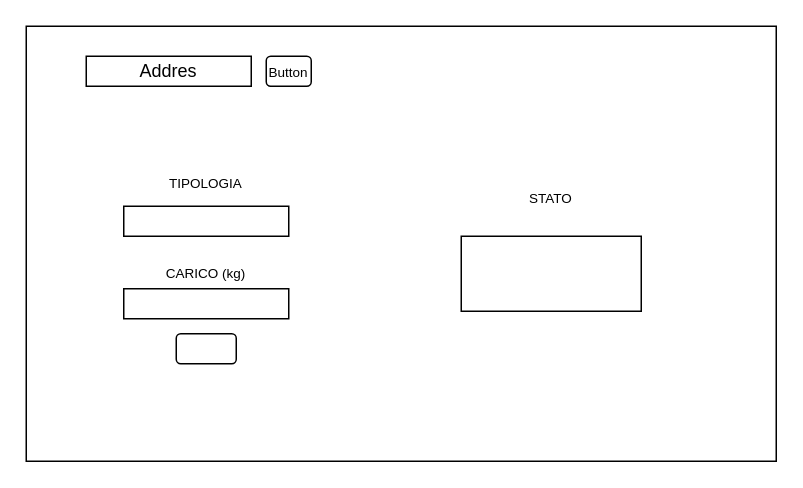
This 803x488 diagram has some shape labels left out. Each missing label, with the centre of its shape:
ACCETTATO / NEGATO / IN ARRRIVO / SCARICAMENTO: pixel 550 273
SEND: pixel 205 348
